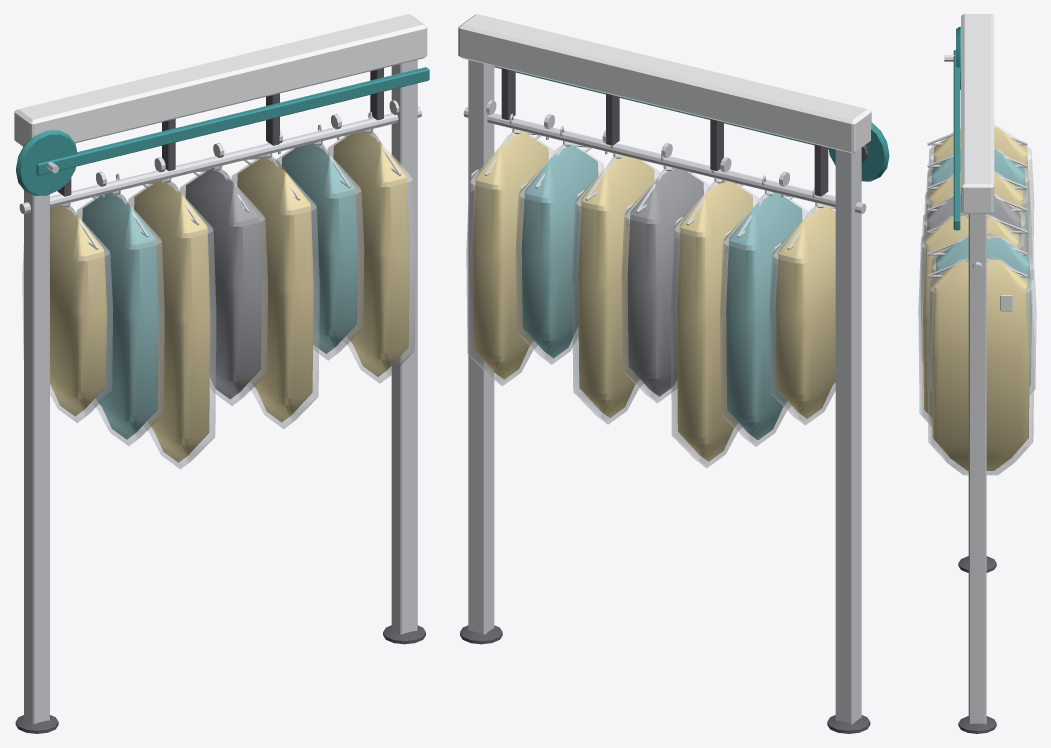
The model's file is dry-cleaners-and-alterations-shop-garment-conveyor-rai-7ff2e69b__34939.glb.
3 renders of one model, left to right at view 1: azimuth 30°, elevation 25°; view 2: azimuth 150°, elevation 25°; view 3: azimuth 270°, elevation 25°, orthographic. The views are drawn at different scales.
Parts seen in each view (by area): view 1: garment-conveyor-rail-warm-run, rail-wheel/accent; view 2: garment-conveyor-rail-warm-run, rail-wheel/accent; view 3: garment-conveyor-rail-warm-run, rail-wheel/accent.
Part boxes in pixels (left/top/right/bottom): garment-conveyor-rail-warm-run: left=14, top=14, right=429, bottom=733; rail-wheel/accent: left=16, top=130, right=76, bottom=195; garment-conveyor-rail-warm-run: left=458, top=14, right=871, bottom=733; rail-wheel/accent: left=828, top=122, right=889, bottom=181; garment-conveyor-rail-warm-run: left=918, top=14, right=1036, bottom=733; rail-wheel/accent: left=956, top=26, right=960, bottom=89.
Size of the model in its own units: 1.68 by 2.36 by 0.4617.
